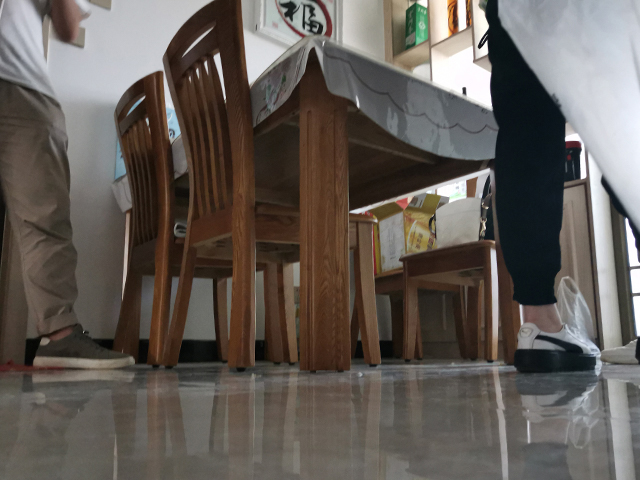stool: (110, 1, 380, 371)
table: (108, 32, 503, 373)
